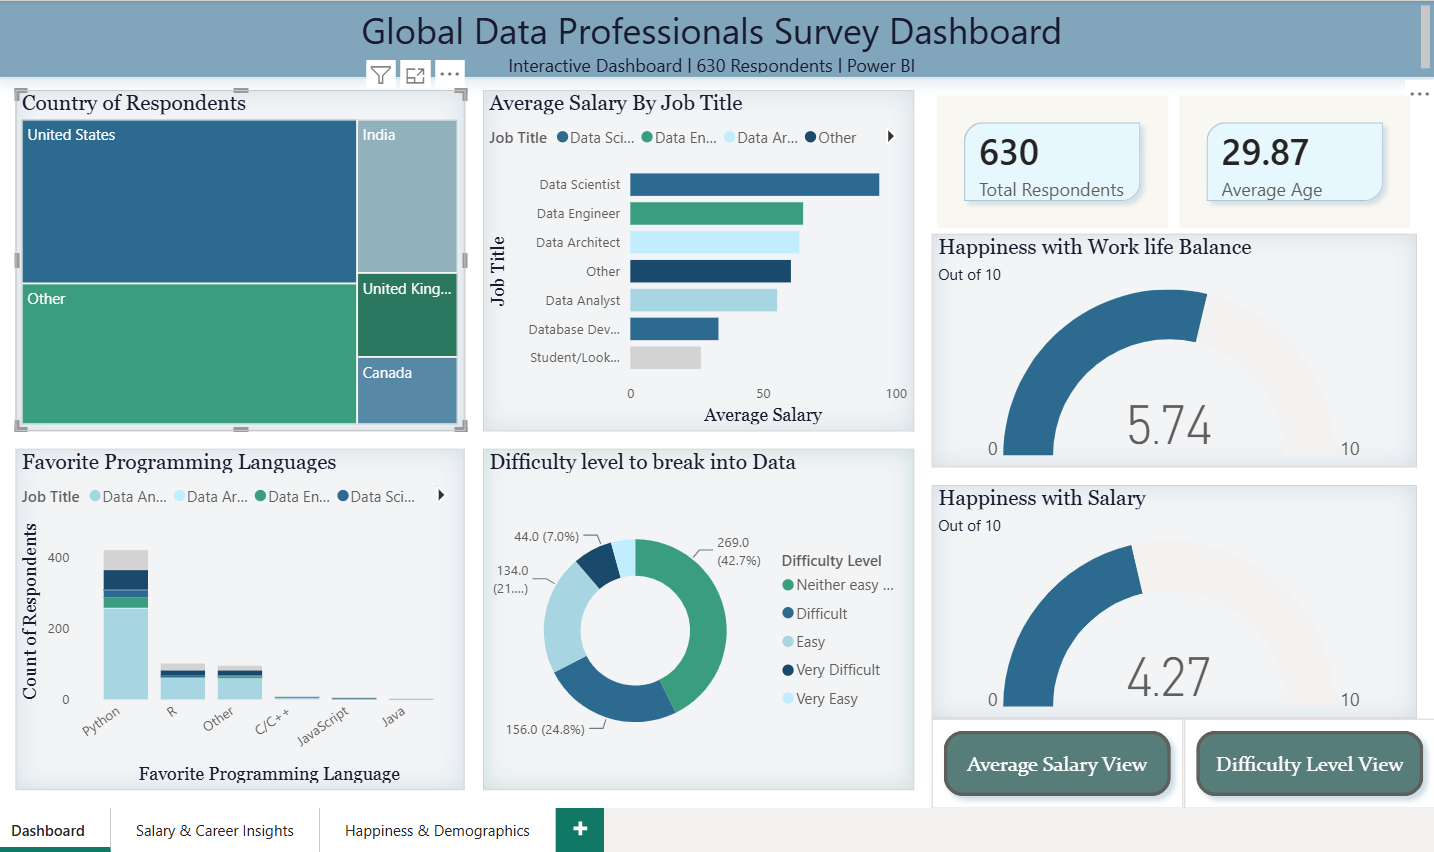

What the dashboard file says about the page in this screenshot:
{"tool":"powerbi","page":{"name":"Dashboard","canvas":[1280,720],"ordinal":0},"visuals":[{"type":"textbox","box":[0,0,1280,70],"z":0},{"type":"cardVisual","fields":{"Data":["Avg(Data Professional Survey.Q10 - Current Age)"]},"box":[1047.5,80.1,216,128],"z":1000},{"type":"cardVisual","fields":{"Data":["CountNonNull(Data Professional Survey.Unique ID)"]},"box":[831.5,80.1,216,128],"z":2000},{"type":"barChart","title":"Average Salary By Job Title","fields":{"Category":["Data Professional Survey.Q1 - Which Title Best Fits your Current Role?"],"Y":["Avg(Data Professional Survey.Average_Salary)"],"Series":["Data Professional Survey.Q1 - Which Title Best Fits your Current Role?"]},"box":[432,80,384,304],"z":3000},{"type":"columnChart","title":"Favorite Programming Languages","fields":{"Category":["Data Professional Survey.Q5 - Favorite Programming Language"],"Y":["CountNonNull(Data Professional Survey.Unique ID)"],"Series":["Data Professional Survey.Q1 - Which Title Best Fits your Current Role?"]},"box":[16,400,400,304],"z":4000},{"type":"treemap","title":"Country of Respondents","fields":{"Group":["Data Professional Survey.Q11 - Which Country do you live in?.1"],"Values":["CountNonNull(Data Professional Survey.Q11 - Which Country do you live in?.1)"]},"box":[16,80,400,304],"z":5000},{"type":"gauge","title":"Happiness with Work life Balance","fields":{"Y":["Avg(Data Professional Survey.Q6 - How Happy are you in your Current Position with the following? (Work/Life Balance))"],"MinValue":["Min(Data Professional Survey.Q6 - How Happy are you in your Current Position with the following? (Work/Life Balance))"],"MaxValue":["Max(Data Professional Survey.Q6 - How Happy are you in your Current Position with the following? (Work/Life Balance))1"]},"box":[832,208,432,208],"z":6000},{"type":"gauge","title":"Happiness with Salary","fields":{"Y":["Avg(Data Professional Survey.Q6 - How Happy are you in your Current Position with the following? (Salary))"],"MinValue":["Min(Data Professional Survey.Q6 - How Happy are you in your Current Position with the following? (Salary))"],"MaxValue":["Max(Data Professional Survey.Q6 - How Happy are you in your Current Position with the following? (Salary))"]},"box":[832,432,432,208],"z":7000},{"type":"donutChart","title":"Difficulty level to break into Data","fields":{"Category":["Data Professional Survey.Q7 - How difficult was it for you to break into Data?"],"Y":["CountNonNull(Data Professional Survey.Q7 - How difficult was it for you to break into Data?)"]},"box":[432,400,384,304],"z":9000},{"type":"actionButton","box":[1056,640,224,80],"z":10000},{"type":"actionButton","box":[832,640,224,80],"z":11000}]}

Visuals, with their boxes on the page's 1280x720 design canvas (x1, y1, x2, y2). These are canvas units, not pixel positions in the 1434x852 screenshot, which may show the page scaled, cropped or inside an application window:
textbox: x1=0 y1=0 x2=1280 y2=70
cardVisual - Avg(Data Professional Survey.Q10 - Current Age): x1=1048 y1=80 x2=1264 y2=208
cardVisual - CountNonNull(Data Professional Survey.Unique ID): x1=832 y1=80 x2=1048 y2=208
"Average Salary By Job Title" barChart: x1=432 y1=80 x2=816 y2=384
"Favorite Programming Languages" columnChart: x1=16 y1=400 x2=416 y2=704
"Country of Respondents" treemap: x1=16 y1=80 x2=416 y2=384
"Happiness with Work life Balance" gauge: x1=832 y1=208 x2=1264 y2=416
"Happiness with Salary" gauge: x1=832 y1=432 x2=1264 y2=640
"Difficulty level to break into Data" donutChart: x1=432 y1=400 x2=816 y2=704
actionButton: x1=1056 y1=640 x2=1280 y2=720
actionButton: x1=832 y1=640 x2=1056 y2=720
